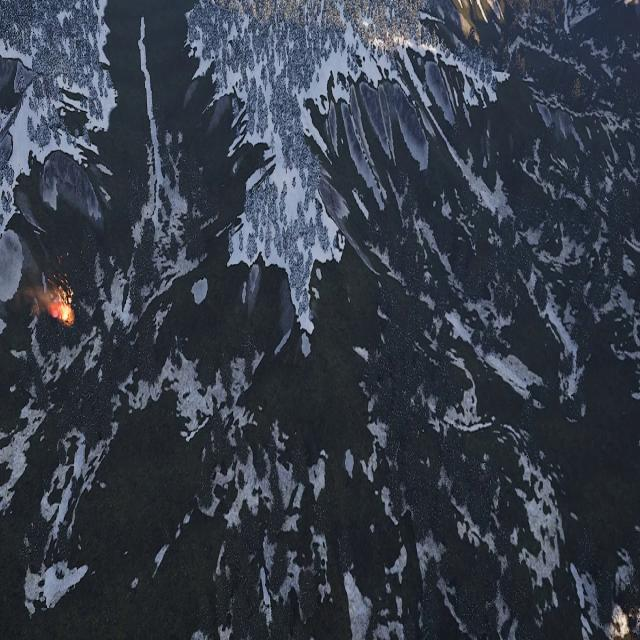fire: (55, 278, 74, 328)
smoke: (4, 248, 57, 318)
